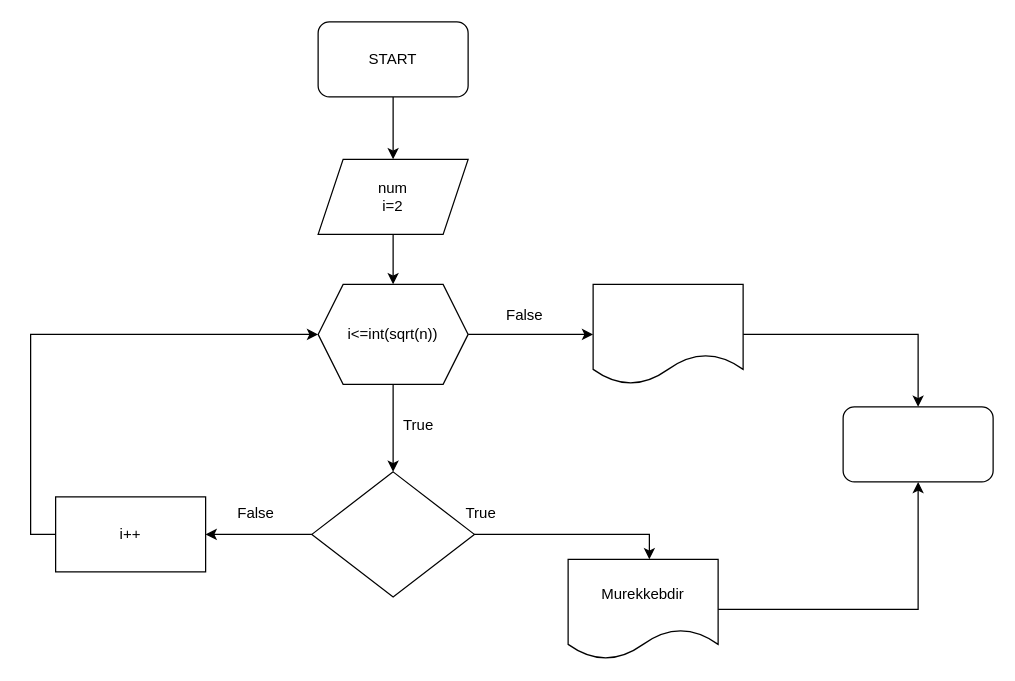
Some shapes in this 1015 by 681 pixel diagram are drawn without their labels. Each missing label, with the centre of its shape:
END: point 917,444
n%i=0: point 392,534
print sadedir: point 667,333
